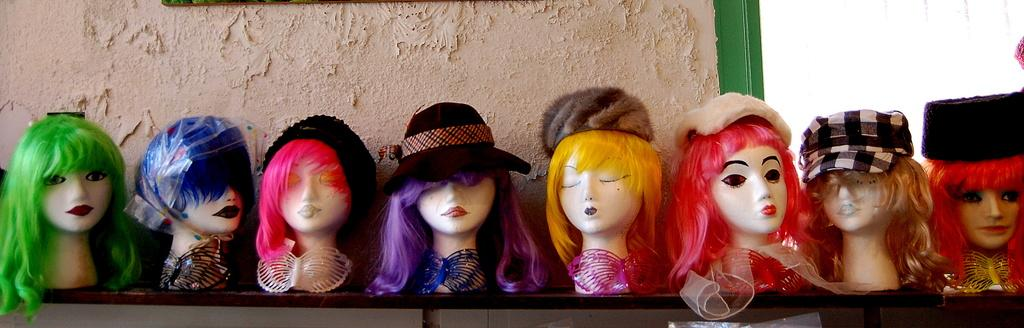Hat: (381, 96, 540, 192), (797, 107, 912, 183), (922, 88, 1022, 168)
